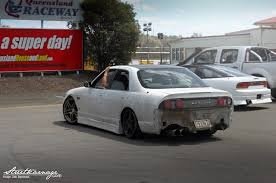Smashed: (154, 106, 236, 136)
